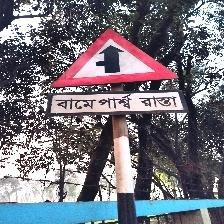Side-road-left: (47, 26, 187, 119)
